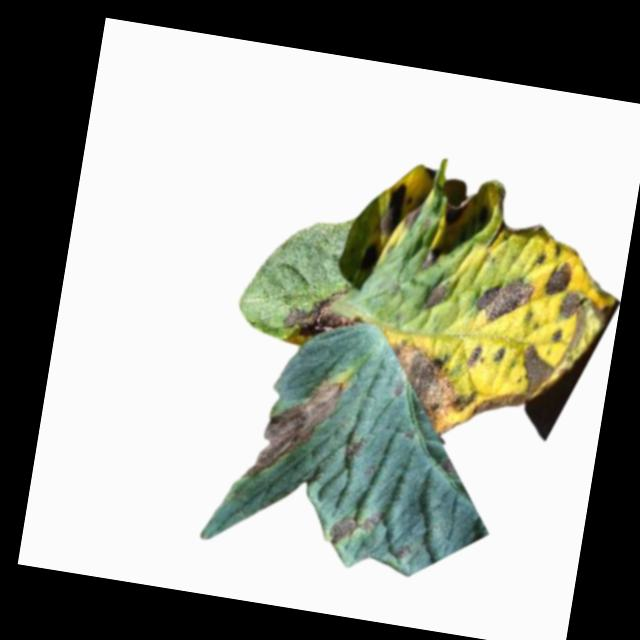Early_blight: (241, 368, 345, 491), (384, 331, 484, 441), (472, 336, 558, 432), (282, 282, 364, 347), (472, 272, 535, 332), (323, 500, 380, 551), (378, 180, 411, 239), (557, 289, 592, 326), (543, 260, 574, 299), (424, 284, 450, 314), (339, 438, 365, 466), (392, 543, 414, 566), (549, 327, 566, 346)
